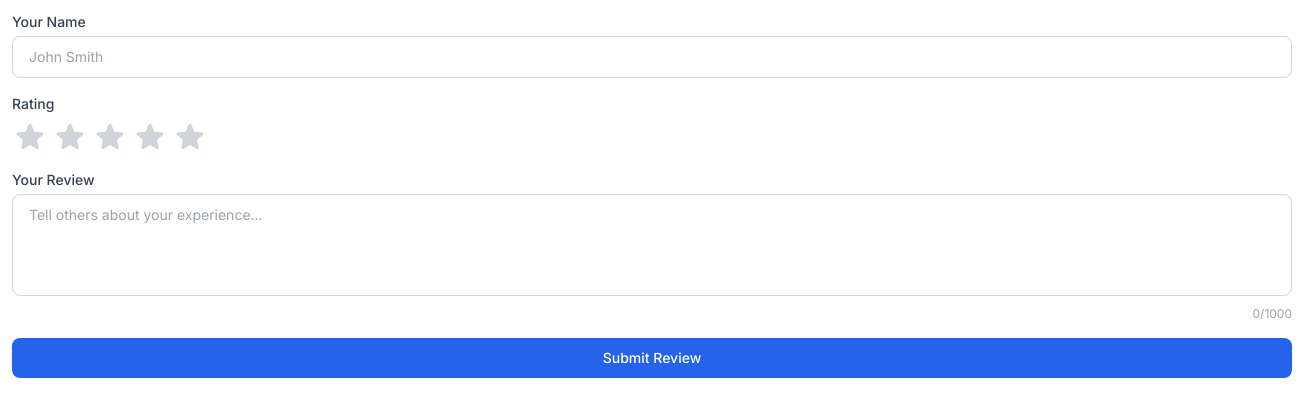
Test: TestimonialForm › shows validation error for short review
This screenshot has width=1304, height=399.
Step 1. Type "John" into the field labelled "Your Name" → (652, 57), box [12, 36, 1292, 78]
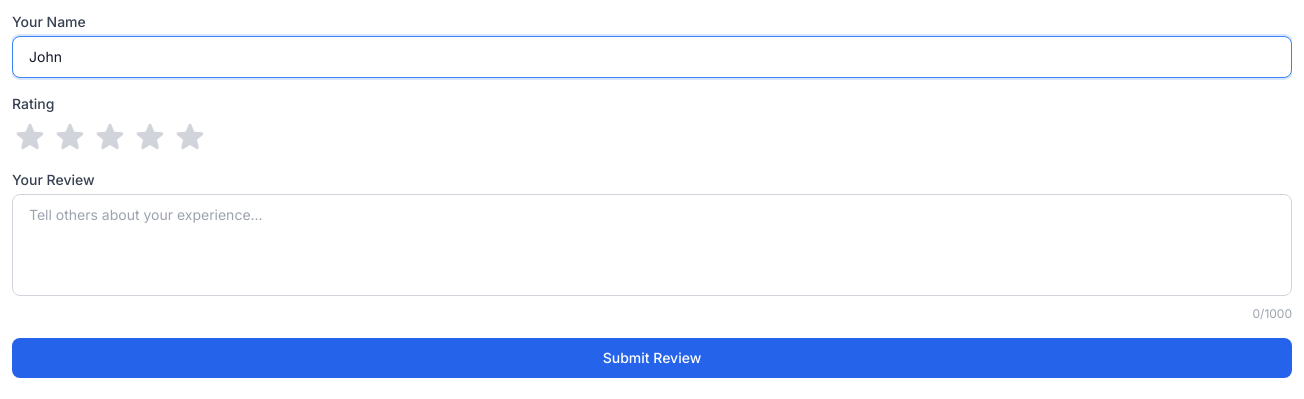
Step 2. Click the button named "Rate 5 stars" → (190, 136), box [172, 118, 208, 154]
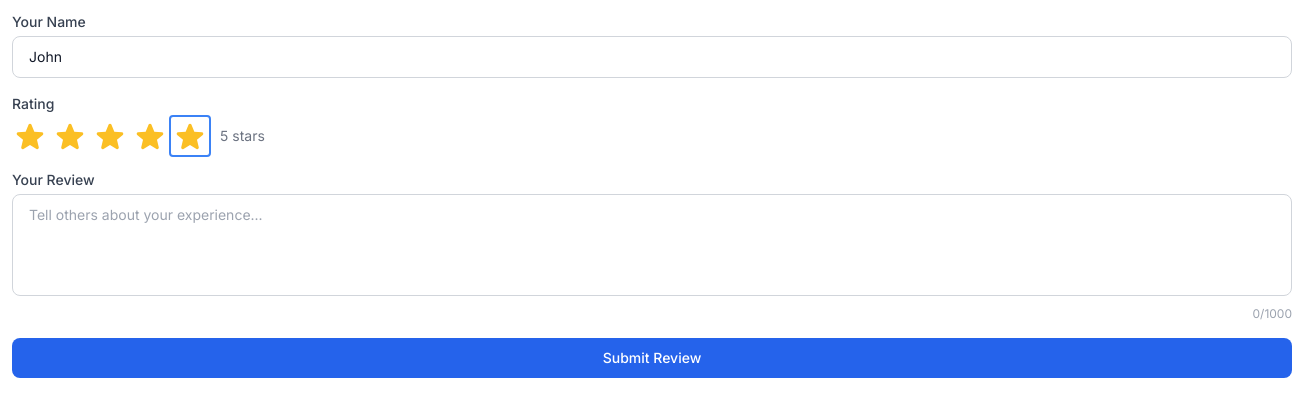
Step 3. Type "Short" into the text box labelled "Your Review" → (652, 245), box [12, 194, 1292, 296]
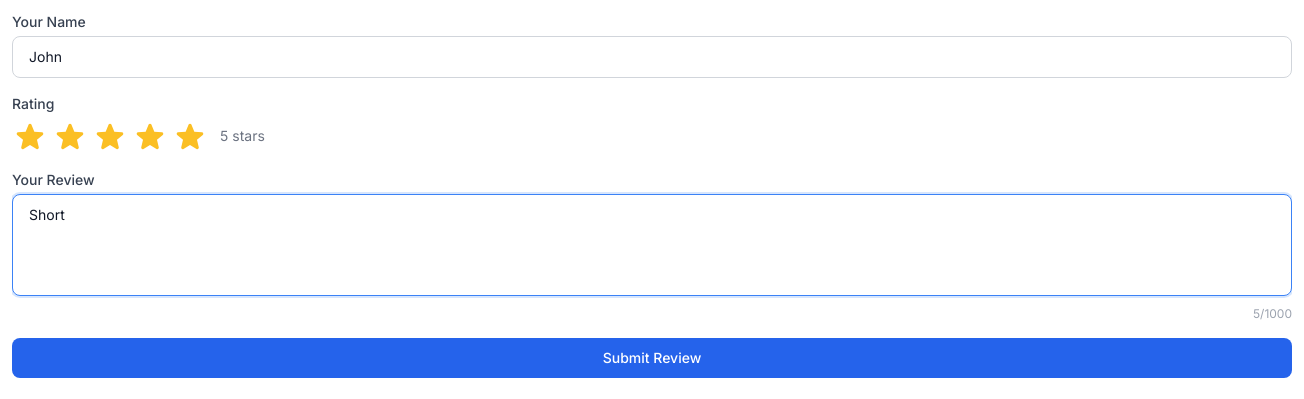
Step 4. Click the button "Submit Review" → (652, 358), box [12, 338, 1292, 378]
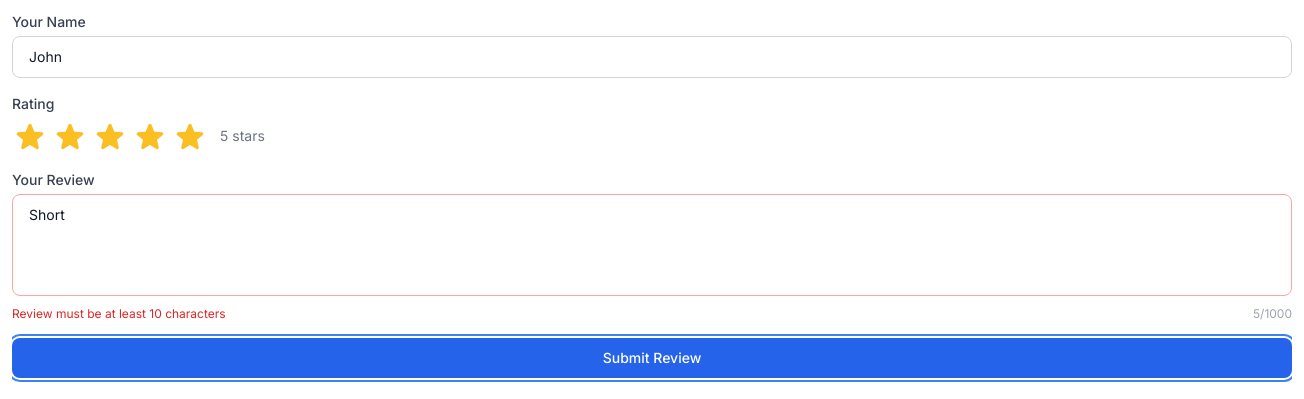
Expected: the text "Review must be at least 10 characters" is shown, [12, 306, 226, 322]
